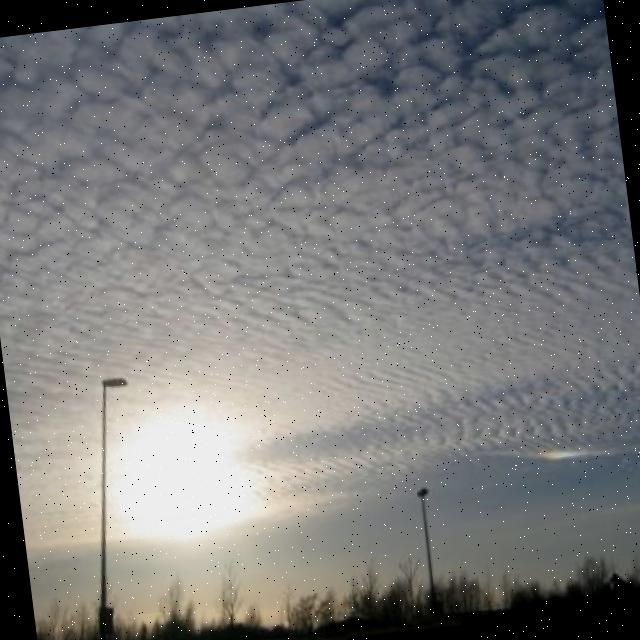Cc: (1, 1, 635, 333)
